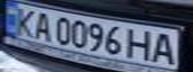0: (66, 18, 87, 50), (51, 15, 72, 46)
6: (103, 24, 127, 56)
9: (84, 20, 109, 53)
A: (148, 30, 181, 65), (30, 10, 54, 42)
H: (124, 27, 157, 61)
K: (9, 6, 42, 37)
